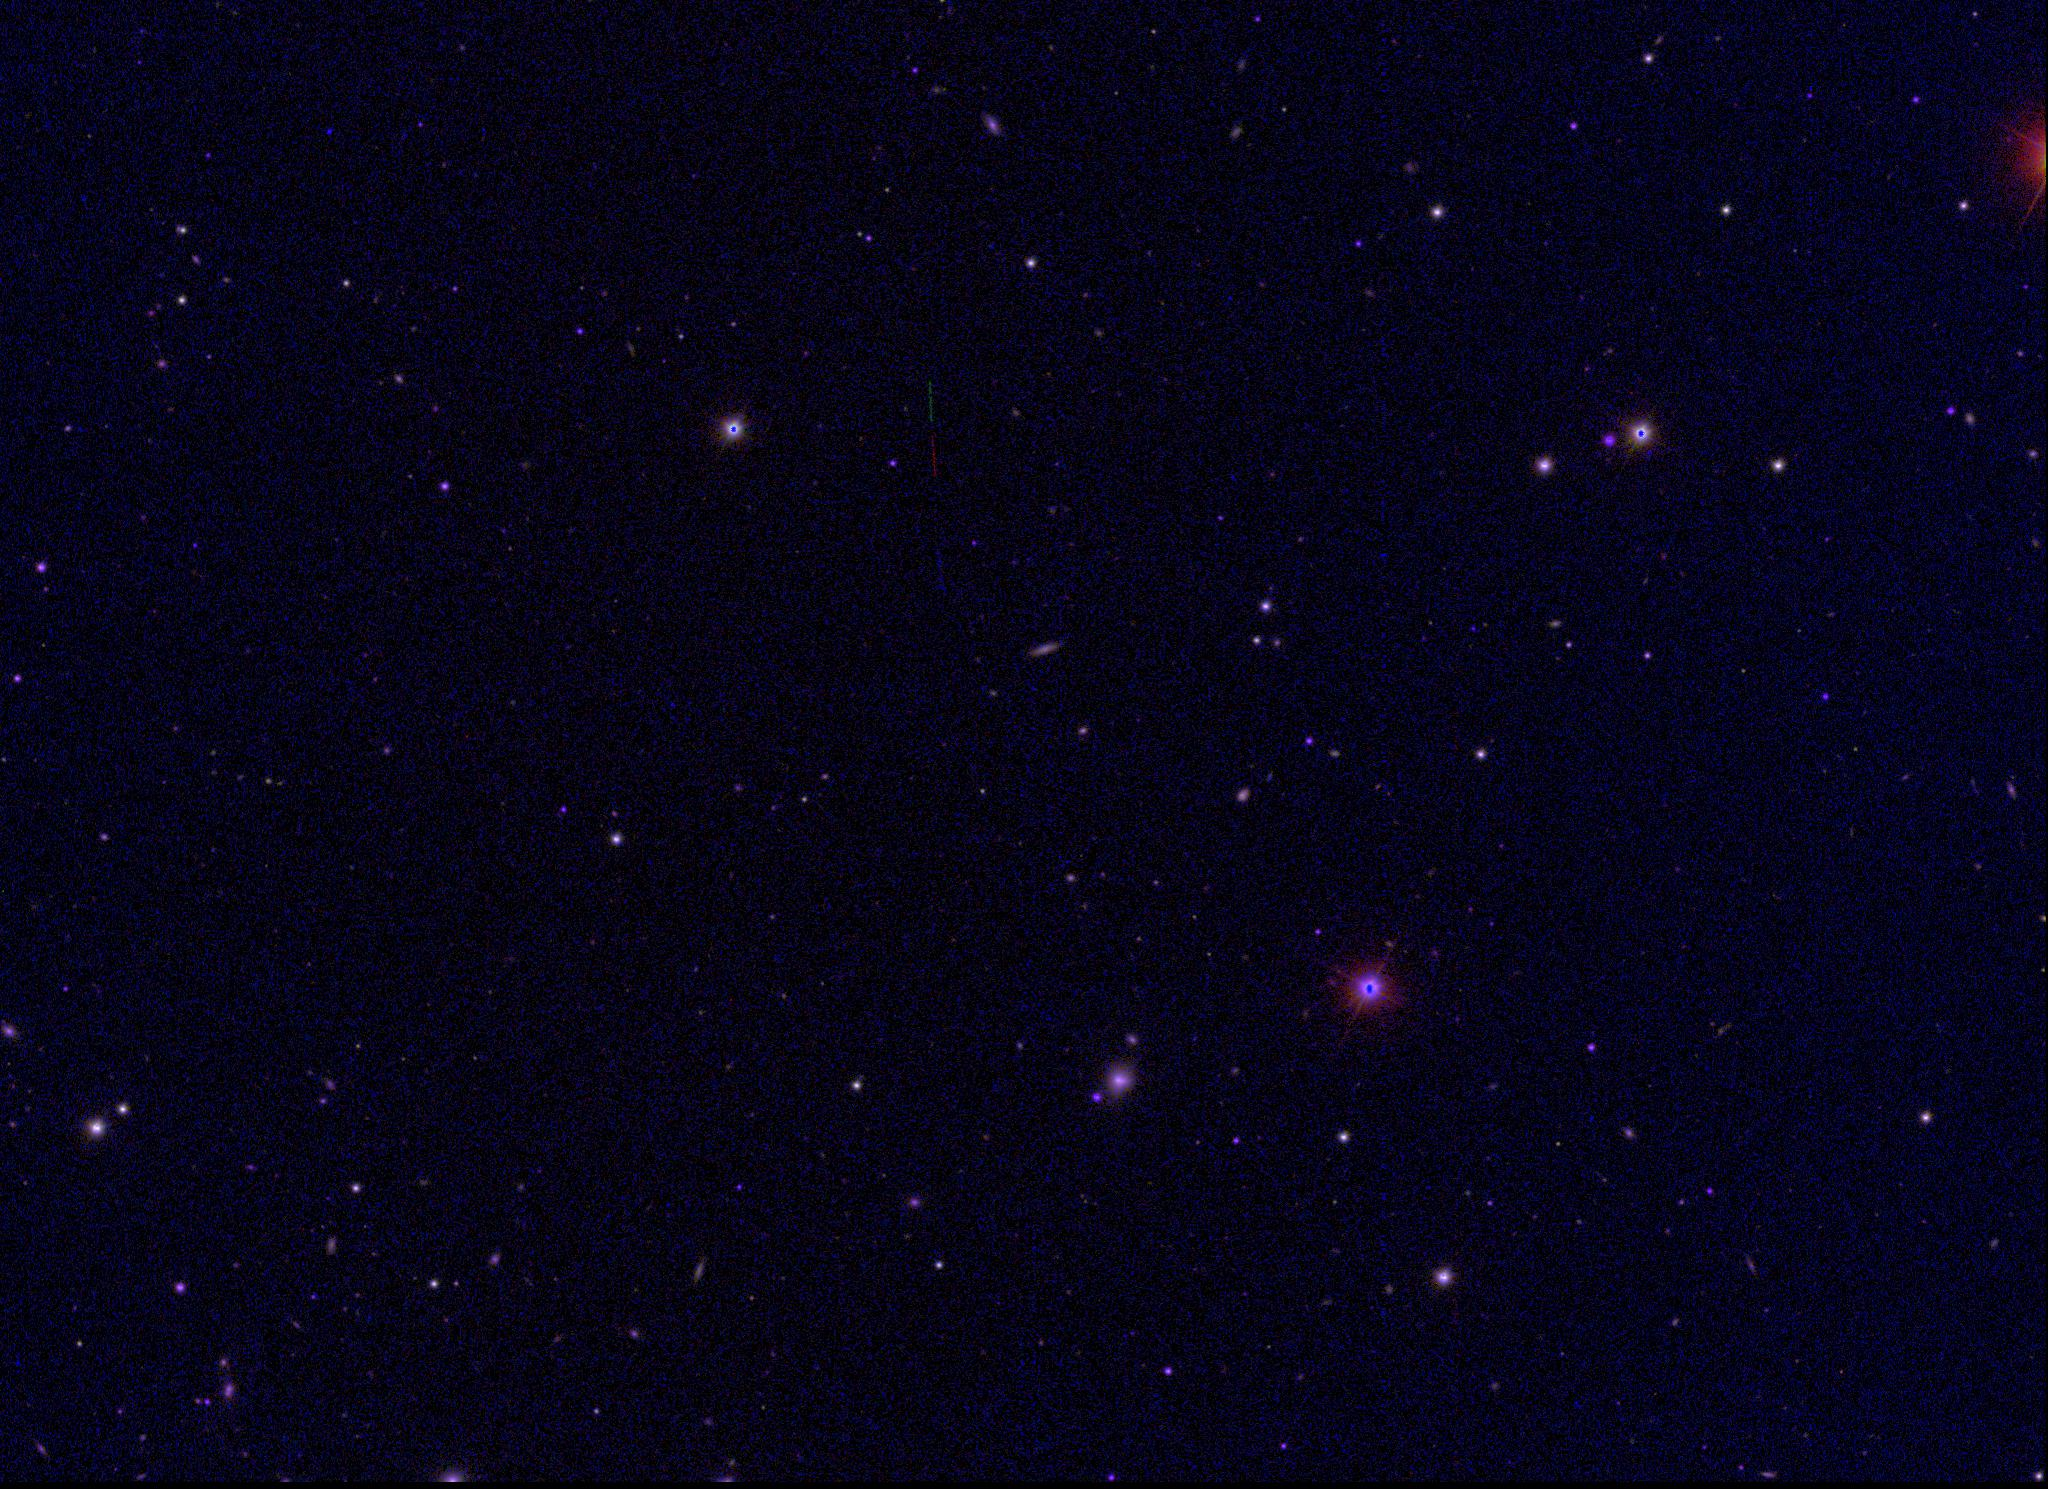L: (323, 126, 336, 138)
